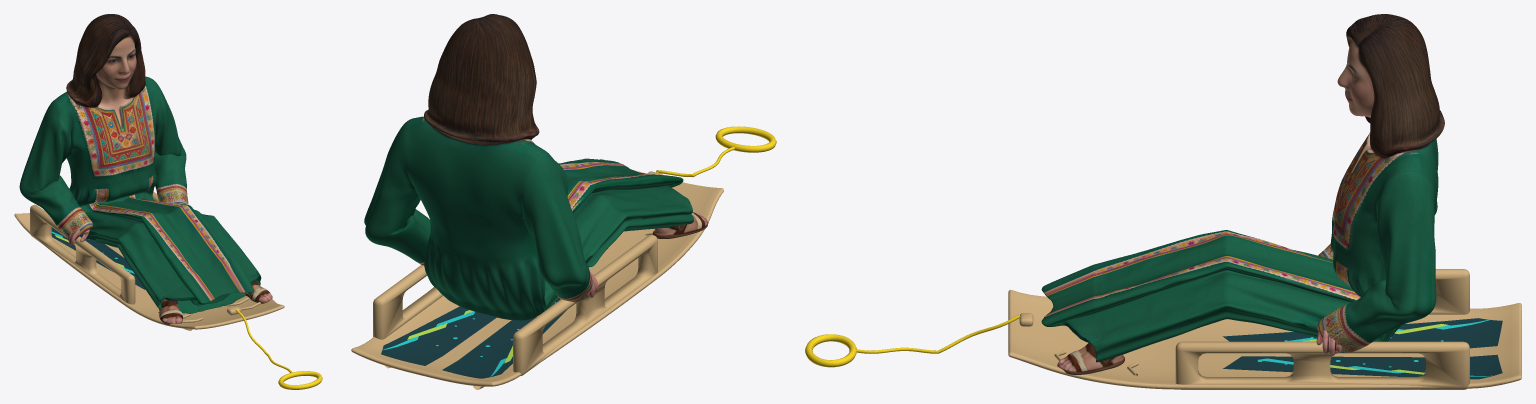
The model's file is Woman_Refined_Sled.glb.
3 views of the same model, side by side, from view 1: azimuth 30°, elevation 25°; view 2: azimuth 150°, elevation 25°; view 3: azimuth 270°, elevation 25° (orthographic). The views are drawn at different scales.
Visible parts, largest first — view 1: Green_Dress_Woman_Seated, Sled_Warm sand molded polymer, Sled_Midnight graphic, Pull handle; view 2: Green_Dress_Woman_Seated, Sled_Warm sand molded polymer, Sled_Midnight graphic, Pull handle, Sled_Turquoise ink; view 3: Green_Dress_Woman_Seated, Sled_Warm sand molded polymer, Sled_Midnight graphic, Pull handle, Tow rope.
Boxes of the visible parts, x1,y1,x2,y2 form: Green_Dress_Woman_Seated: [19, 14, 272, 324]; Sled_Warm sand molded polymer: [14, 191, 284, 330]; Sled_Midnight graphic: [51, 227, 145, 289]; Pull handle: [278, 371, 322, 389]; Green_Dress_Woman_Seated: [364, 14, 708, 320]; Sled_Warm sand molded polymer: [351, 159, 723, 389]; Sled_Midnight graphic: [381, 298, 566, 378]; Pull handle: [715, 126, 776, 152]; Sled_Turquoise ink: [382, 302, 555, 376]; Green_Dress_Woman_Seated: [1041, 14, 1444, 374]; Sled_Warm sand molded polymer: [1008, 269, 1521, 389]; Sled_Midnight graphic: [1223, 318, 1502, 379]; Pull handle: [805, 334, 856, 367]; Tow rope: [856, 315, 1020, 353].
Bounding box in the file's own units: 0.6412 × 0.8953 × 1.68.
Materials: 6 (1 with a texture image).
